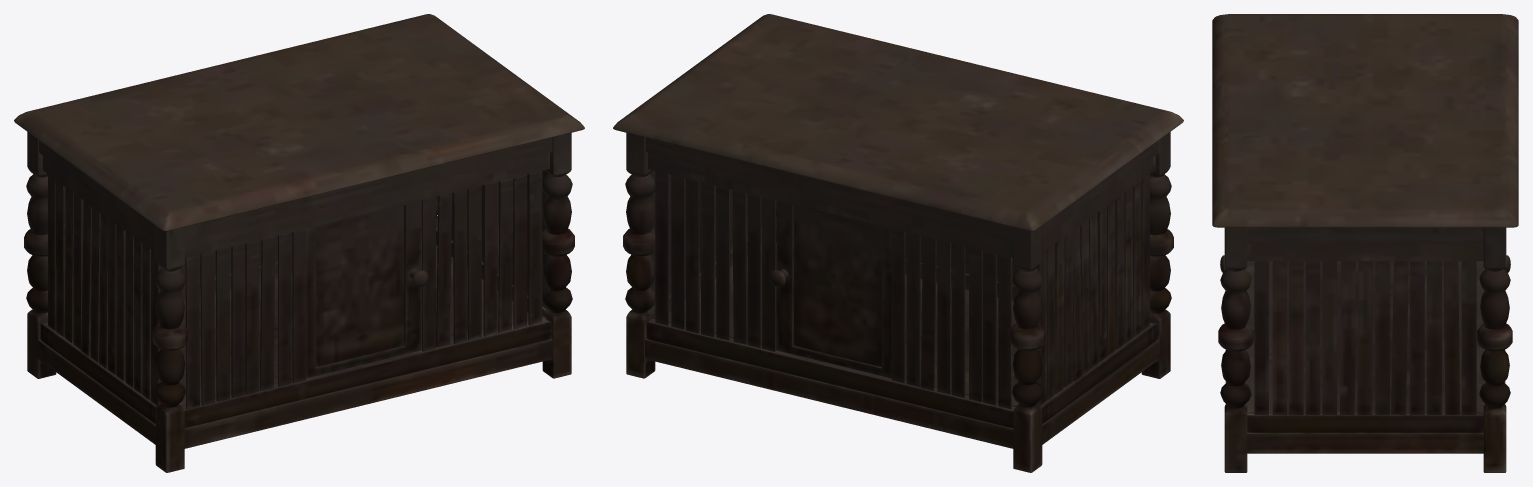
File: gallinera_table.glb
3 views of the same model, side by side, from view 1: azimuth 30°, elevation 25°; view 2: azimuth 150°, elevation 25°; view 3: azimuth 270°, elevation 25° (orthographic).
Visible parts, largest first — view 1: gallinera_table, gallinera_table_door_a; view 2: gallinera_table, gallinera_table_door_b; view 3: gallinera_table.
Boxes of the visible parts, bbox=[...] form: gallinera_table: bbox=[14, 14, 584, 472]; gallinera_table_door_a: bbox=[306, 200, 428, 378]; gallinera_table: bbox=[613, 14, 1183, 472]; gallinera_table_door_b: bbox=[769, 200, 891, 378]; gallinera_table: bbox=[1212, 14, 1518, 472].
Bounding box in the file's own units: 0.8301 × 0.4878 × 0.5183.
1 material, 1 textured.
